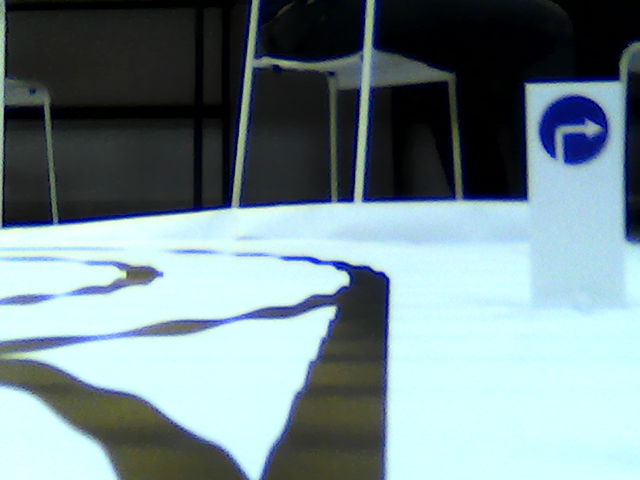Right: (537, 92, 609, 168)
